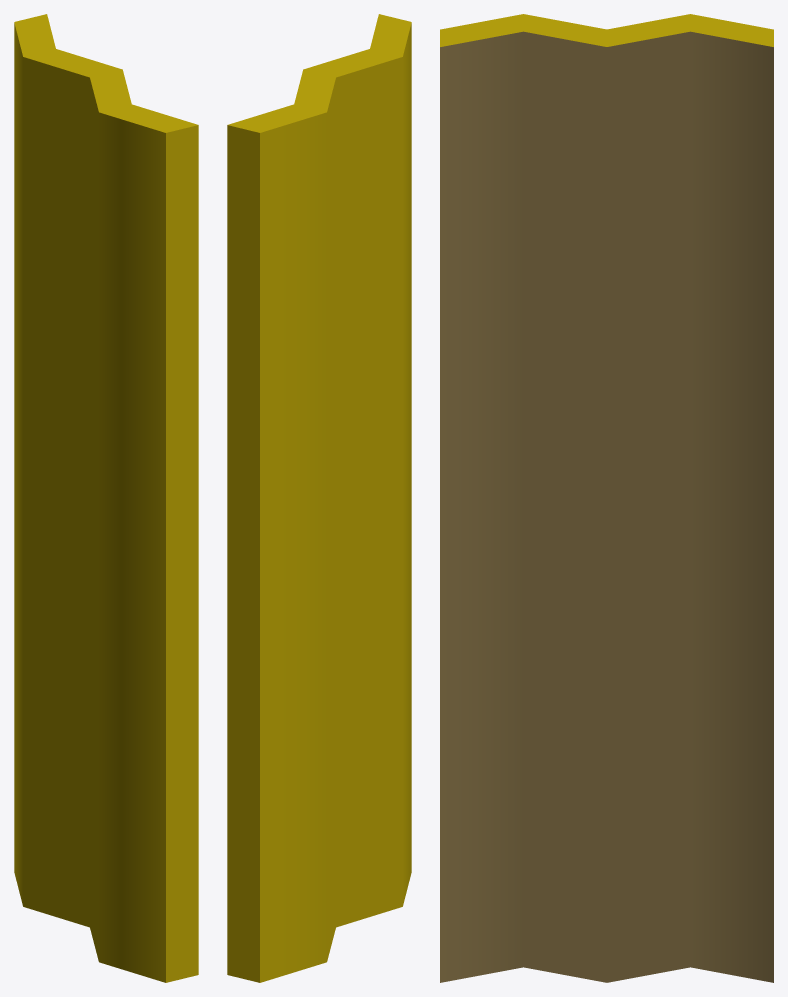
The model's file is obs_sm_curtains.fbx.
3 renders of one model, left to right at view 1: azimuth 30°, elevation 25°; view 2: azimuth 150°, elevation 25°; view 3: azimuth 270°, elevation 25°, orthographic. The views are drawn at different scales.
Parts seen in each view (by area): view 1: pCube21; view 2: pCube21; view 3: pCube21.
Part boxes in pixels (x1=…): pCube21: x1=14, y1=14, x2=198, y2=982; pCube21: x1=227, y1=14, x2=411, y2=982; pCube21: x1=440, y1=14, x2=773, y2=982.
Size of the model in its own units: 0.0652 by 0.8555 by 0.2767.
